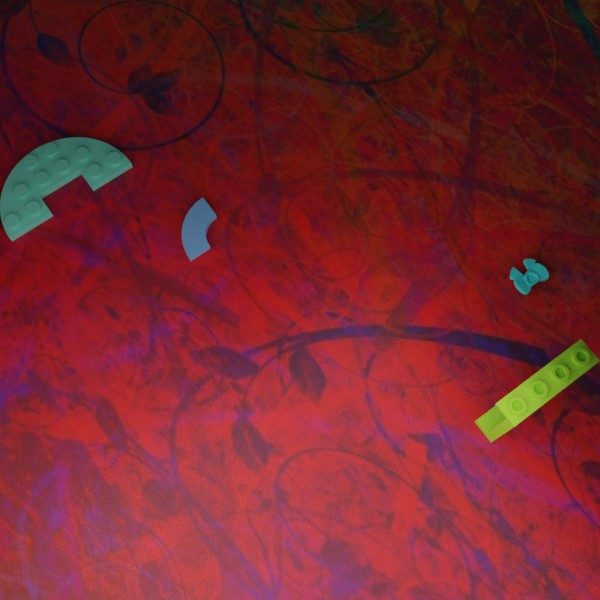lego: (0, 137, 132, 241), (474, 338, 600, 442), (181, 197, 216, 261), (509, 258, 549, 294)
